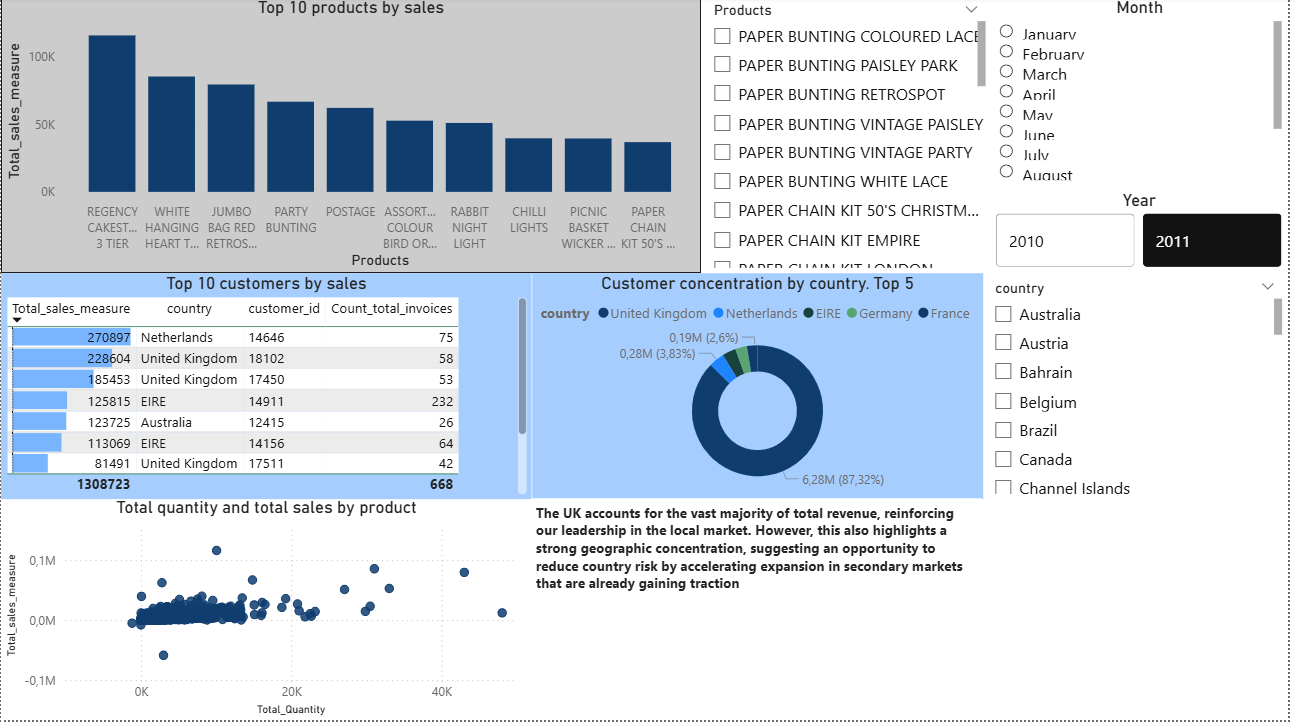

What the dashboard file says about the page in this screenshot:
{"tool":"powerbi","page":{"name":"Product & Customer Insights","canvas":[1280,720],"ordinal":1},"visuals":[{"type":"clusteredColumnChart","title":"Top 10 products by sales","fields":{"Y":["public vw_online_retail_final.Total_sales_measure"],"Category":["public vw_online_retail_final.description"]},"box":[0,0,696.6,274.9],"z":0},{"type":"listSlicer","fields":{"Values":["public vw_online_retail_final.invoice_timestamp.Variation.Date Hierarchy.Month"]},"box":[986.6,0,293.7,192.1],"z":1000},{"type":"advancedSlicerVisual","fields":{"Values":["public vw_online_retail_final.invoice_timestamp.Variation.Date Hierarchy.Year"]},"box":[985.3,192.1,295,82.3],"z":2000},{"type":"scatterChart","title":"Total quantity and total sales by product","fields":{"X":["public vw_online_retail_final.Total_Quantity"],"Y":["public vw_online_retail_final.Total_sales_measure"],"Category":["public vw_online_retail_final.description"]},"box":[0,498.1,528.3,222.3],"z":3000},{"type":"slicer","fields":{"Values":["public vw_online_retail_final.description"]},"box":[697.1,0,288.2,274.4],"z":4000},{"type":"tableEx","title":"Top 10 customers by sales","fields":{"Values":["public vw_online_retail_final.Total_sales_measure","public vw_online_retail_final.country","public vw_online_retail_final.customer_id","public vw_online_retail_final.Count_total_invoices"]},"box":[0,274.4,528.3,225],"z":5000},{"type":"slicer","fields":{"Values":["public vw_online_retail_final.country"]},"box":[977,275.8,303.3,223.7],"z":6000},{"type":"donutChart","title":"Customer concentration by country.  Top 5","fields":{"Y":["public vw_online_retail_final.Total_sales_measure"],"Category":["public vw_online_retail_final.country"]},"box":[528.3,274.4,448.7,225],"z":7000},{"type":"textbox","box":[528,499,449,221],"z":8000}]}

Visuals, with their boxes in screenshot pixels (x1, y1, x2, y2), scaled from the page's 1280x720 canvas onto the 1295x723 screenshot:
"Top 10 products by sales" clusteredColumnChart: 0:0:705:276
listSlicer - public vw_online_retail_final.invoice_timestamp.Variation.Date Hierarchy.Month: 998:0:1294:193
advancedSlicerVisual - public vw_online_retail_final.invoice_timestamp.Variation.Date Hierarchy.Year: 997:193:1294:276
"Total quantity and total sales by product" scatterChart: 0:500:534:722
slicer - public vw_online_retail_final.description: 705:0:997:276
"Top 10 customers by sales" tableEx: 0:276:534:501
slicer - public vw_online_retail_final.country: 988:277:1294:502
"Customer concentration by country.  Top 5" donutChart: 534:276:988:501
textbox: 534:501:988:722
